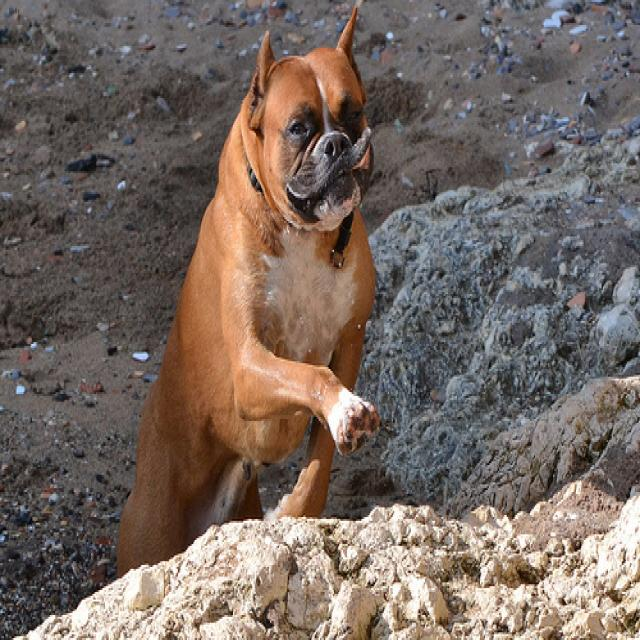dog-boxer: (108, 2, 385, 588)
